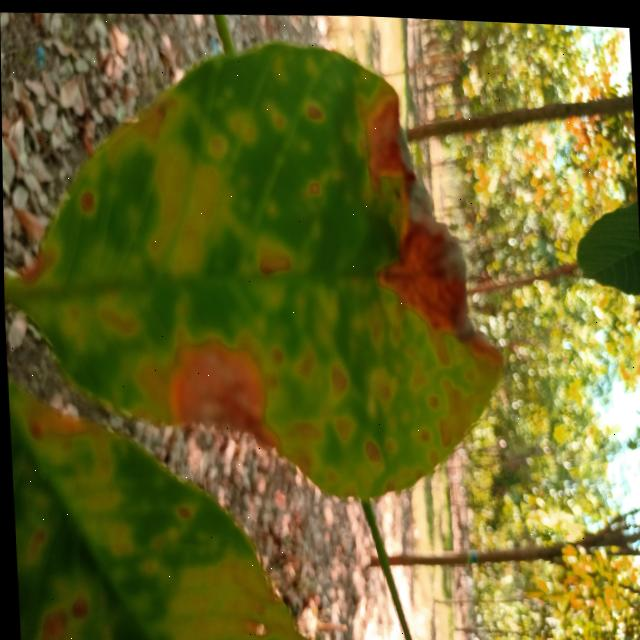Leaf-Blight: (371, 168, 503, 360), (168, 334, 274, 448), (366, 85, 416, 183)
